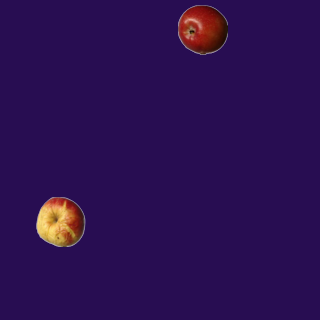Apple Braeburn: (177, 4, 227, 54)
Apple Red Yellow 1: (35, 196, 85, 246)
